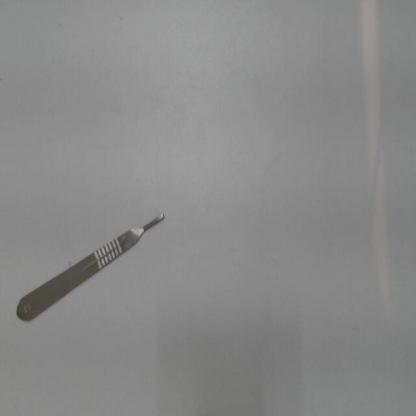No.3 BP Handle: (11, 207, 175, 337)
